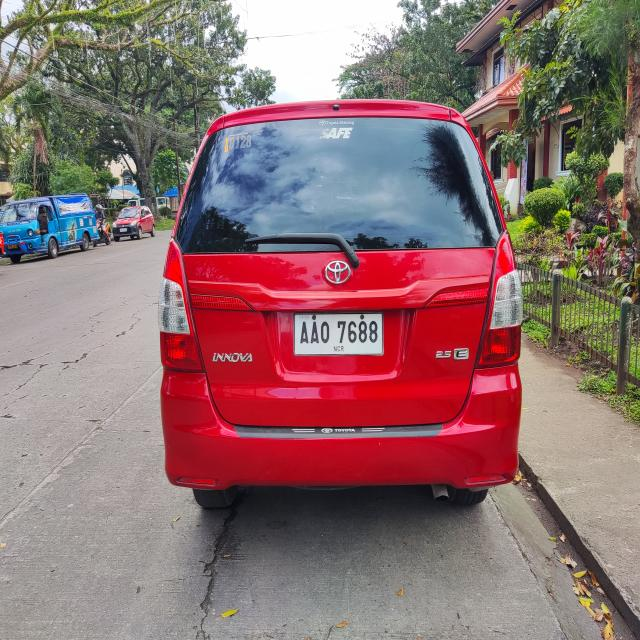plate: (293, 312, 384, 356)
